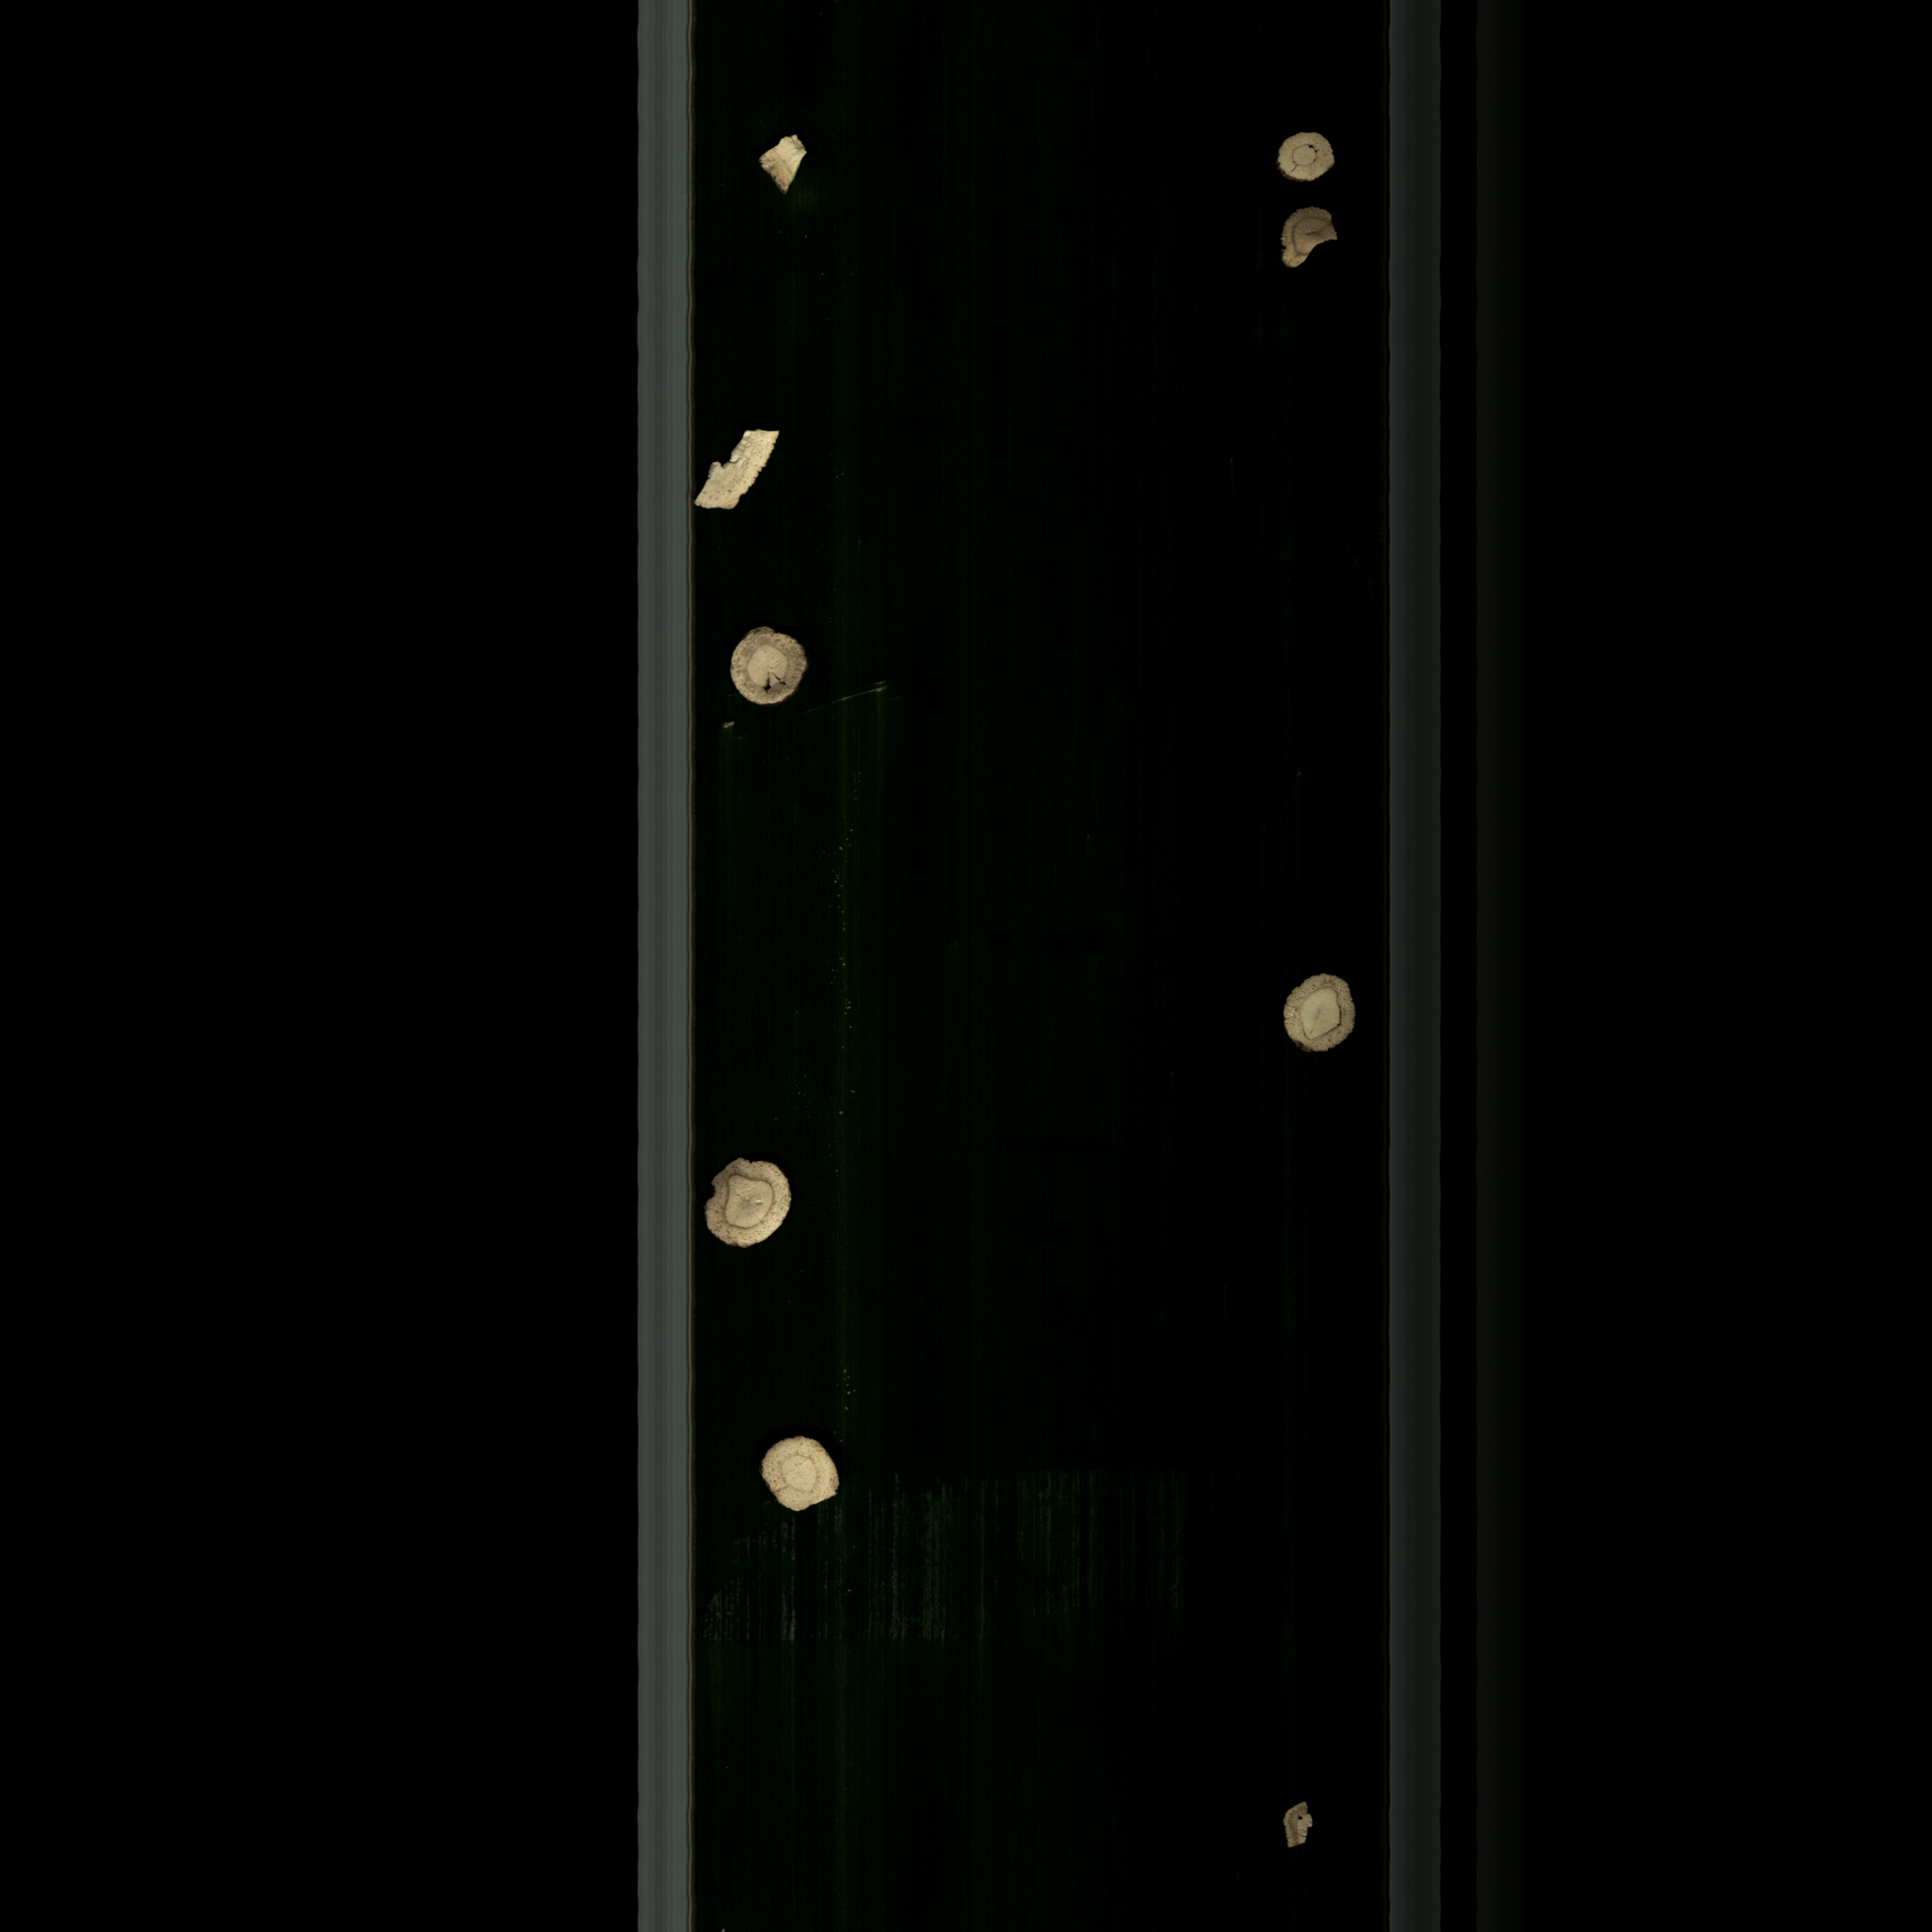debris: (690, 419, 793, 524), (1279, 198, 1345, 276), (748, 126, 816, 198)
dreg: (1281, 1794, 1329, 1859)
hole: (713, 614, 816, 718)
moldy: (697, 1143, 805, 1256)
